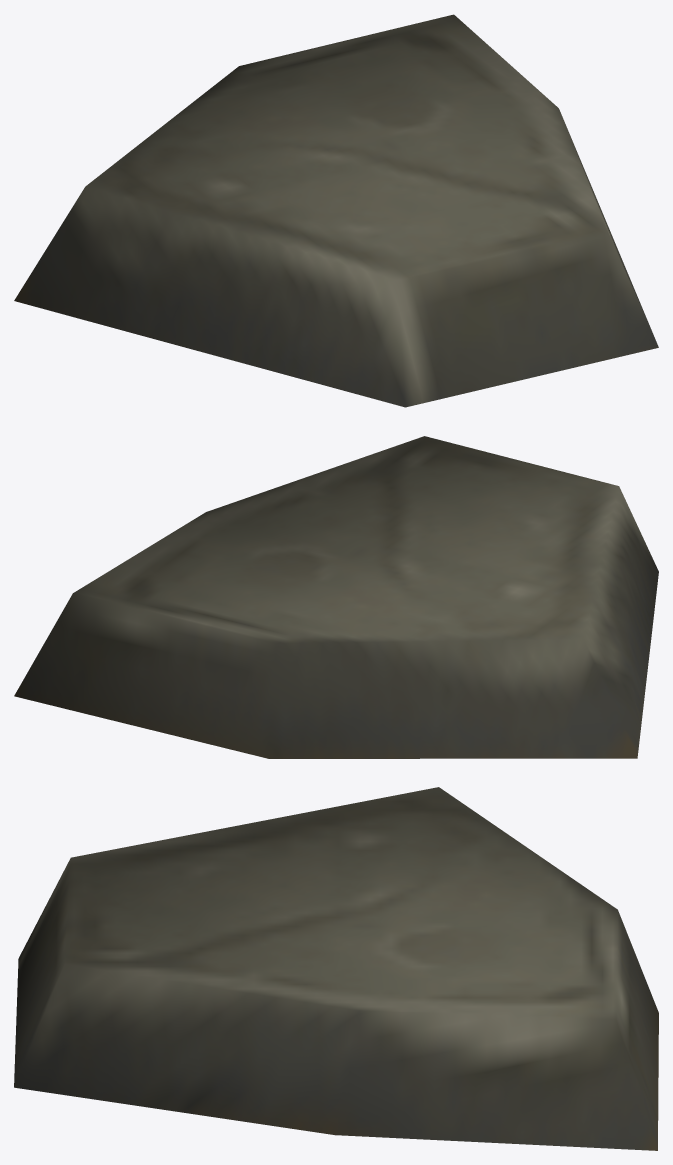
The model's file is sn_longmai_yuantai_006.FBX.
3 renders of one model, top to bottom at view 1: azimuth 30°, elevation 25°; view 2: azimuth 150°, elevation 25°; view 3: azimuth 270°, elevation 25°, orthographic. The views are drawn at different scales.
Parts seen in each view (by area): view 1: sn_longmai_yuantai_006; view 2: sn_longmai_yuantai_006; view 3: sn_longmai_yuantai_006.
Boxes of the visible parts, x1,y1,x2,y2 form: sn_longmai_yuantai_006: [14, 14, 658, 407]; sn_longmai_yuantai_006: [14, 436, 658, 758]; sn_longmai_yuantai_006: [14, 787, 658, 1150].
Size of the model in its own units: 105 by 18.75 by 100.
